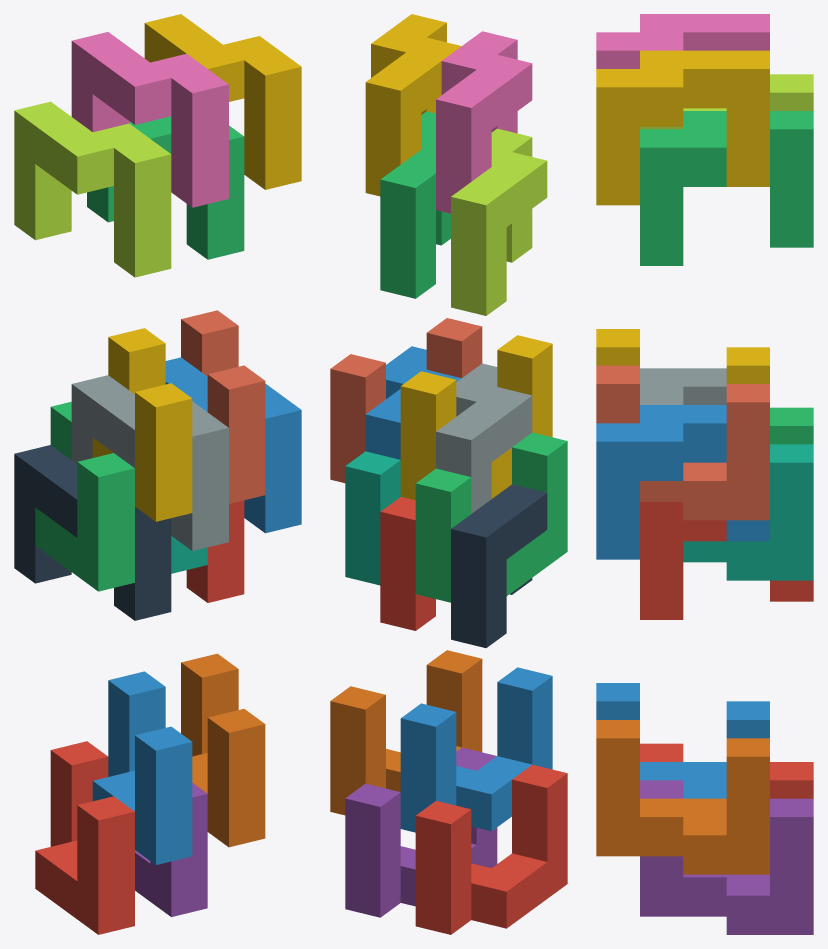
Rendered from tiling.obj.
3 renders of one model, left to right at view 1: azimuth 30°, elevation 25°; view 2: azimuth 150°, elevation 25°; view 3: azimuth 270°, elevation 25°, orthographic. The views are drawn at different scales.
Parts seen in each view (by area): view 1: copy_2_domain_3, copy_2_domain_4, copy_1_domain_1, copy_1_domain_2, copy_2_domain_8, copy_1_domain_6, copy_2_domain_1, copy_1_domain_4, copy_2_domain_2, copy_1_domain_3, copy_1_domain_8, copy_2_domain_6 (+4 smaller); view 2: copy_1_domain_1, copy_1_domain_2, copy_2_domain_3, copy_1_domain_3, copy_2_domain_4, copy_1_domain_6, copy_2_domain_8, copy_2_domain_1, copy_1_domain_4, copy_1_domain_5, copy_2_domain_7, copy_2_domain_2 (+4 smaller); view 3: copy_2_domain_8, copy_1_domain_6, copy_2_domain_7, copy_1_domain_5, copy_2_domain_6, copy_1_domain_8, copy_1_domain_7, copy_2_domain_5, copy_2_domain_4, copy_1_domain_2, copy_1_domain_4, copy_2_domain_2 (+3 smaller).
Part boxes in pixels (x1=…): copy_2_domain_3: x1=14, y1=101, x2=171, y2=277; copy_2_domain_4: x1=71, y1=32, x2=228, y2=207; copy_1_domain_1: x1=35, y1=741, x2=134, y2=934; copy_1_domain_2: x1=92, y1=671, x2=192, y2=864; copy_2_domain_8: x1=144, y1=14, x2=301, y2=189; copy_1_domain_6: x1=181, y1=653, x2=265, y2=847; copy_2_domain_1: x1=14, y1=445, x2=171, y2=620; copy_1_domain_4: x1=92, y1=328, x2=192, y2=521; copy_2_domain_2: x1=71, y1=375, x2=228, y2=550; copy_1_domain_3: x1=35, y1=401, x2=134, y2=591; copy_1_domain_8: x1=181, y1=310, x2=265, y2=503; copy_2_domain_6: x1=165, y1=357, x2=301, y2=533; copy_1_domain_1: x1=415, y1=764, x2=567, y2=934; copy_1_domain_2: x1=400, y1=667, x2=552, y2=832; copy_2_domain_3: x1=451, y1=128, x2=547, y2=315; copy_1_domain_3: x1=415, y1=432, x2=567, y2=602; copy_2_domain_4: x1=436, y1=31, x2=532, y2=213; copy_1_domain_6: x1=330, y1=650, x2=482, y2=815; copy_2_domain_8: x1=365, y1=14, x2=461, y2=196; copy_2_domain_1: x1=451, y1=484, x2=547, y2=647; copy_1_domain_4: x1=400, y1=335, x2=552, y2=500; copy_1_domain_5: x1=345, y1=747, x2=497, y2=917; copy_2_domain_7: x1=380, y1=111, x2=450, y2=298; copy_2_domain_2: x1=436, y1=363, x2=532, y2=513; copy_2_domain_8: x1=596, y1=50, x2=769, y2=205; copy_1_domain_6: x1=596, y1=720, x2=769, y2=874; copy_2_domain_7: x1=640, y1=111, x2=813, y2=265; copy_1_domain_5: x1=640, y1=780, x2=813, y2=934; copy_2_domain_6: x1=596, y1=405, x2=769, y2=559; copy_1_domain_8: x1=596, y1=365, x2=769, y2=520; copy_1_domain_7: x1=683, y1=444, x2=813, y2=580; copy_2_domain_5: x1=640, y1=502, x2=813, y2=619; copy_2_domain_4: x1=596, y1=14, x2=769, y2=68; copy_1_domain_2: x1=596, y1=683, x2=769, y2=798; copy_1_domain_4: x1=596, y1=329, x2=769, y2=383; copy_2_domain_2: x1=640, y1=368, x2=726, y2=404.
Bounding box in the file's own units: 5 × 22 × 5.
